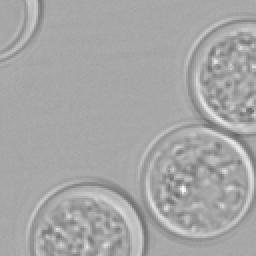picoshell: (140, 124, 254, 240), (26, 180, 146, 254), (184, 18, 254, 134)
